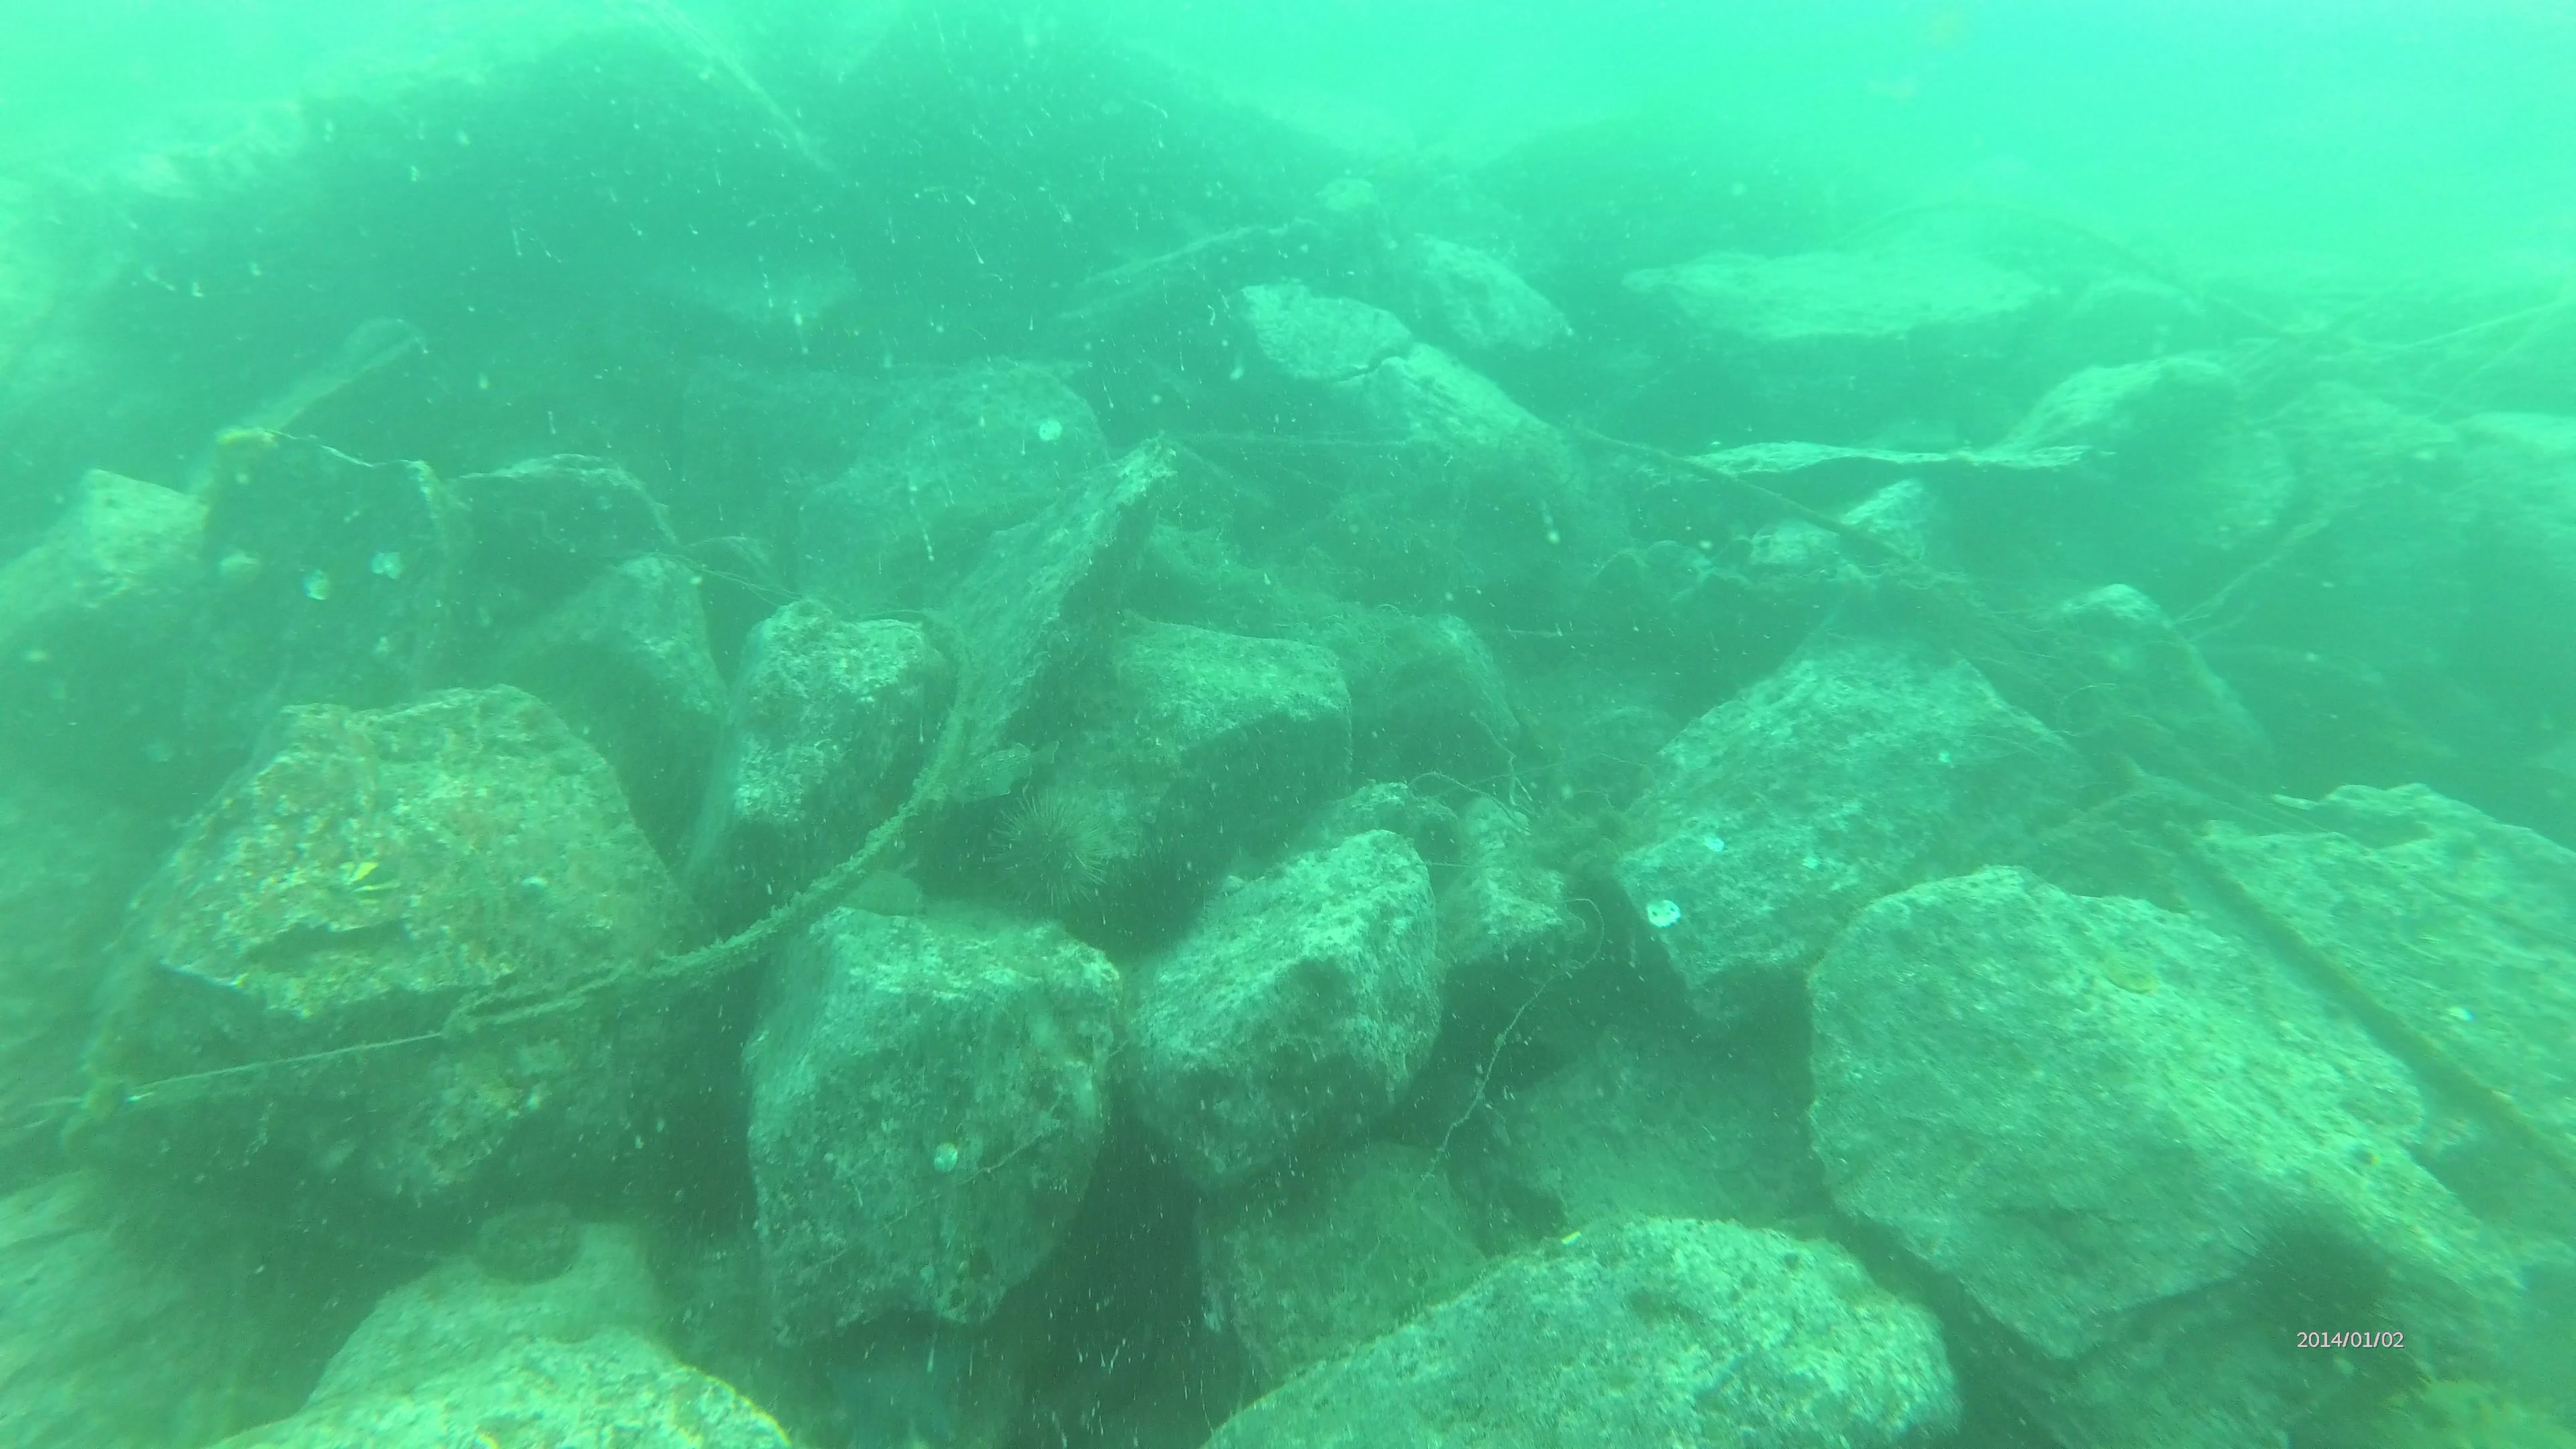echinus: (2238, 1223, 2399, 1341), (1092, 837, 1198, 943), (975, 814, 1060, 906)
